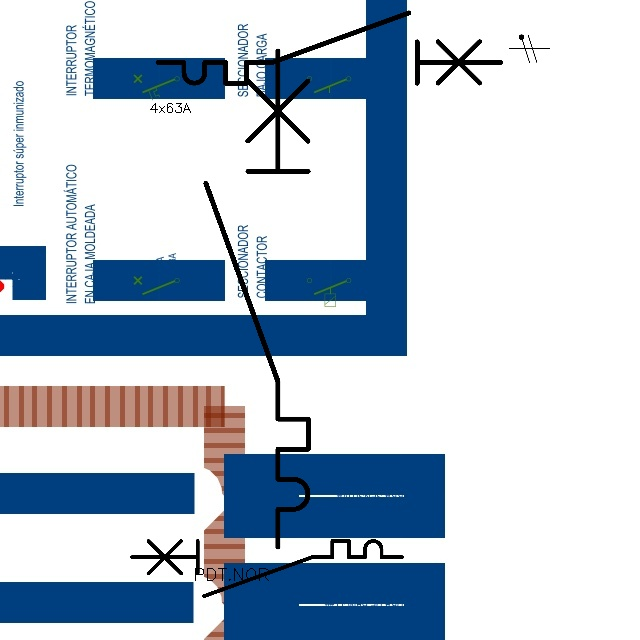interruptor_termomagnetico: (193, 38, 321, 560), (149, 4, 509, 92), (125, 534, 409, 603)
